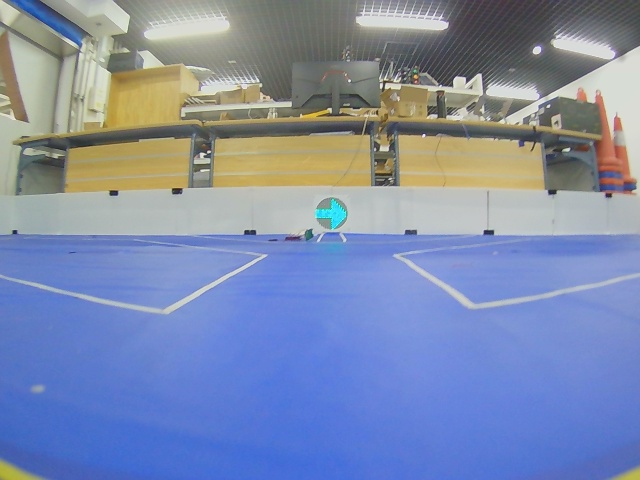right_green: (315, 197, 347, 230)
